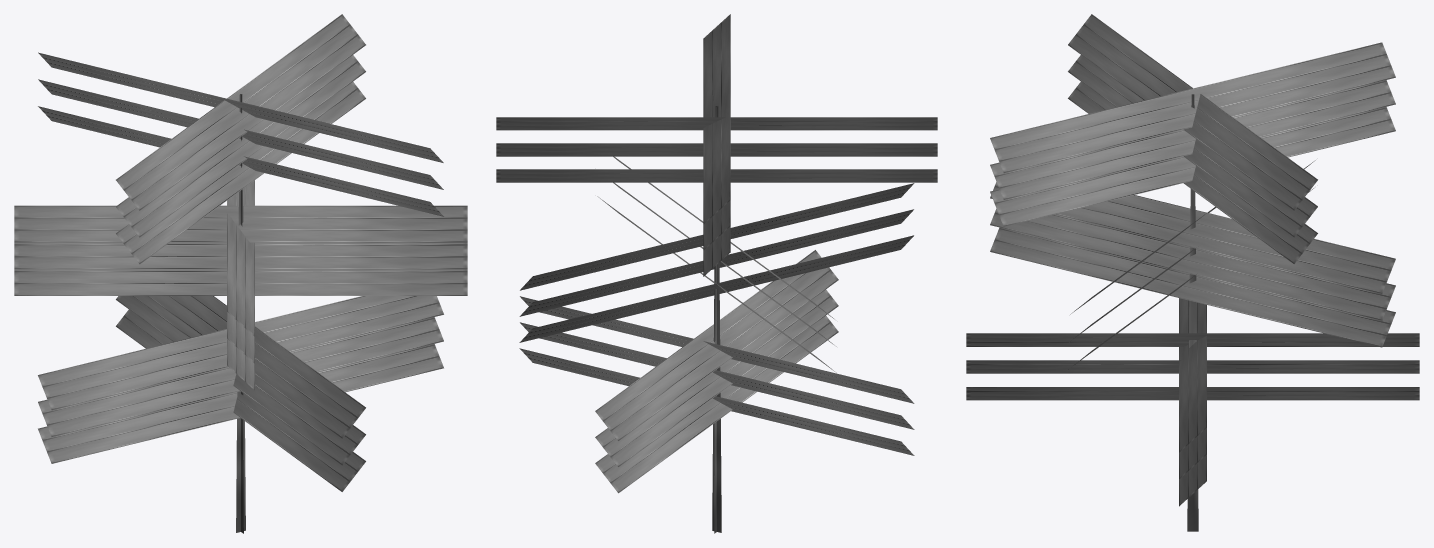
File: antenna_10.obj
3 views of the same model, side by side, from view 1: azimuth 30°, elevation 25°; view 2: azimuth 150°, elevation 25°; view 3: azimuth 270°, elevation 25° (orthographic). The views are drawn at different scales.
Parts seen in each view (by area): view 1: antenna_10; view 2: antenna_10; view 3: antenna_10.
Boxes of the visible parts, box(x1,y1,x2,y2) form: antenna_10: box(14, 14, 467, 533); antenna_10: box(496, 14, 937, 533); antenna_10: box(966, 14, 1419, 531).
Size of the model in its own units: 1.5 by 1.6 by 1.5.
1 material, 1 textured.
